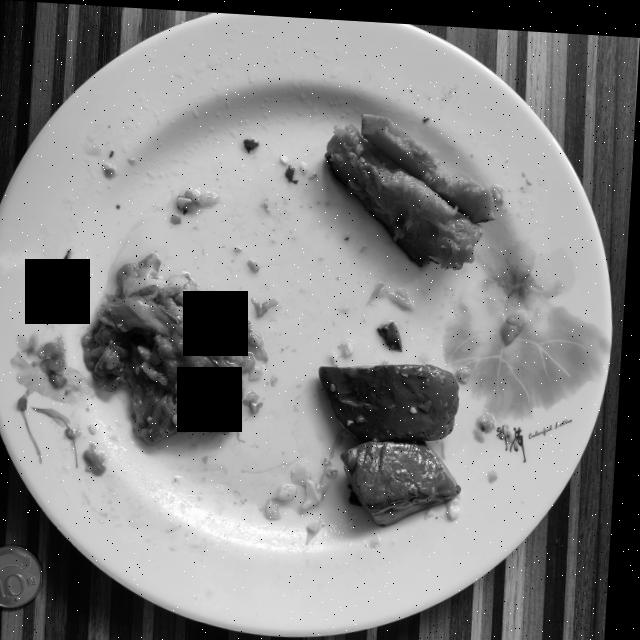Kabayaki sea bream fillet: (86, 250, 272, 443)
coin: (0, 545, 50, 607)
pig blood curd: (323, 359, 467, 521)
pumpkin: (327, 109, 497, 264)
